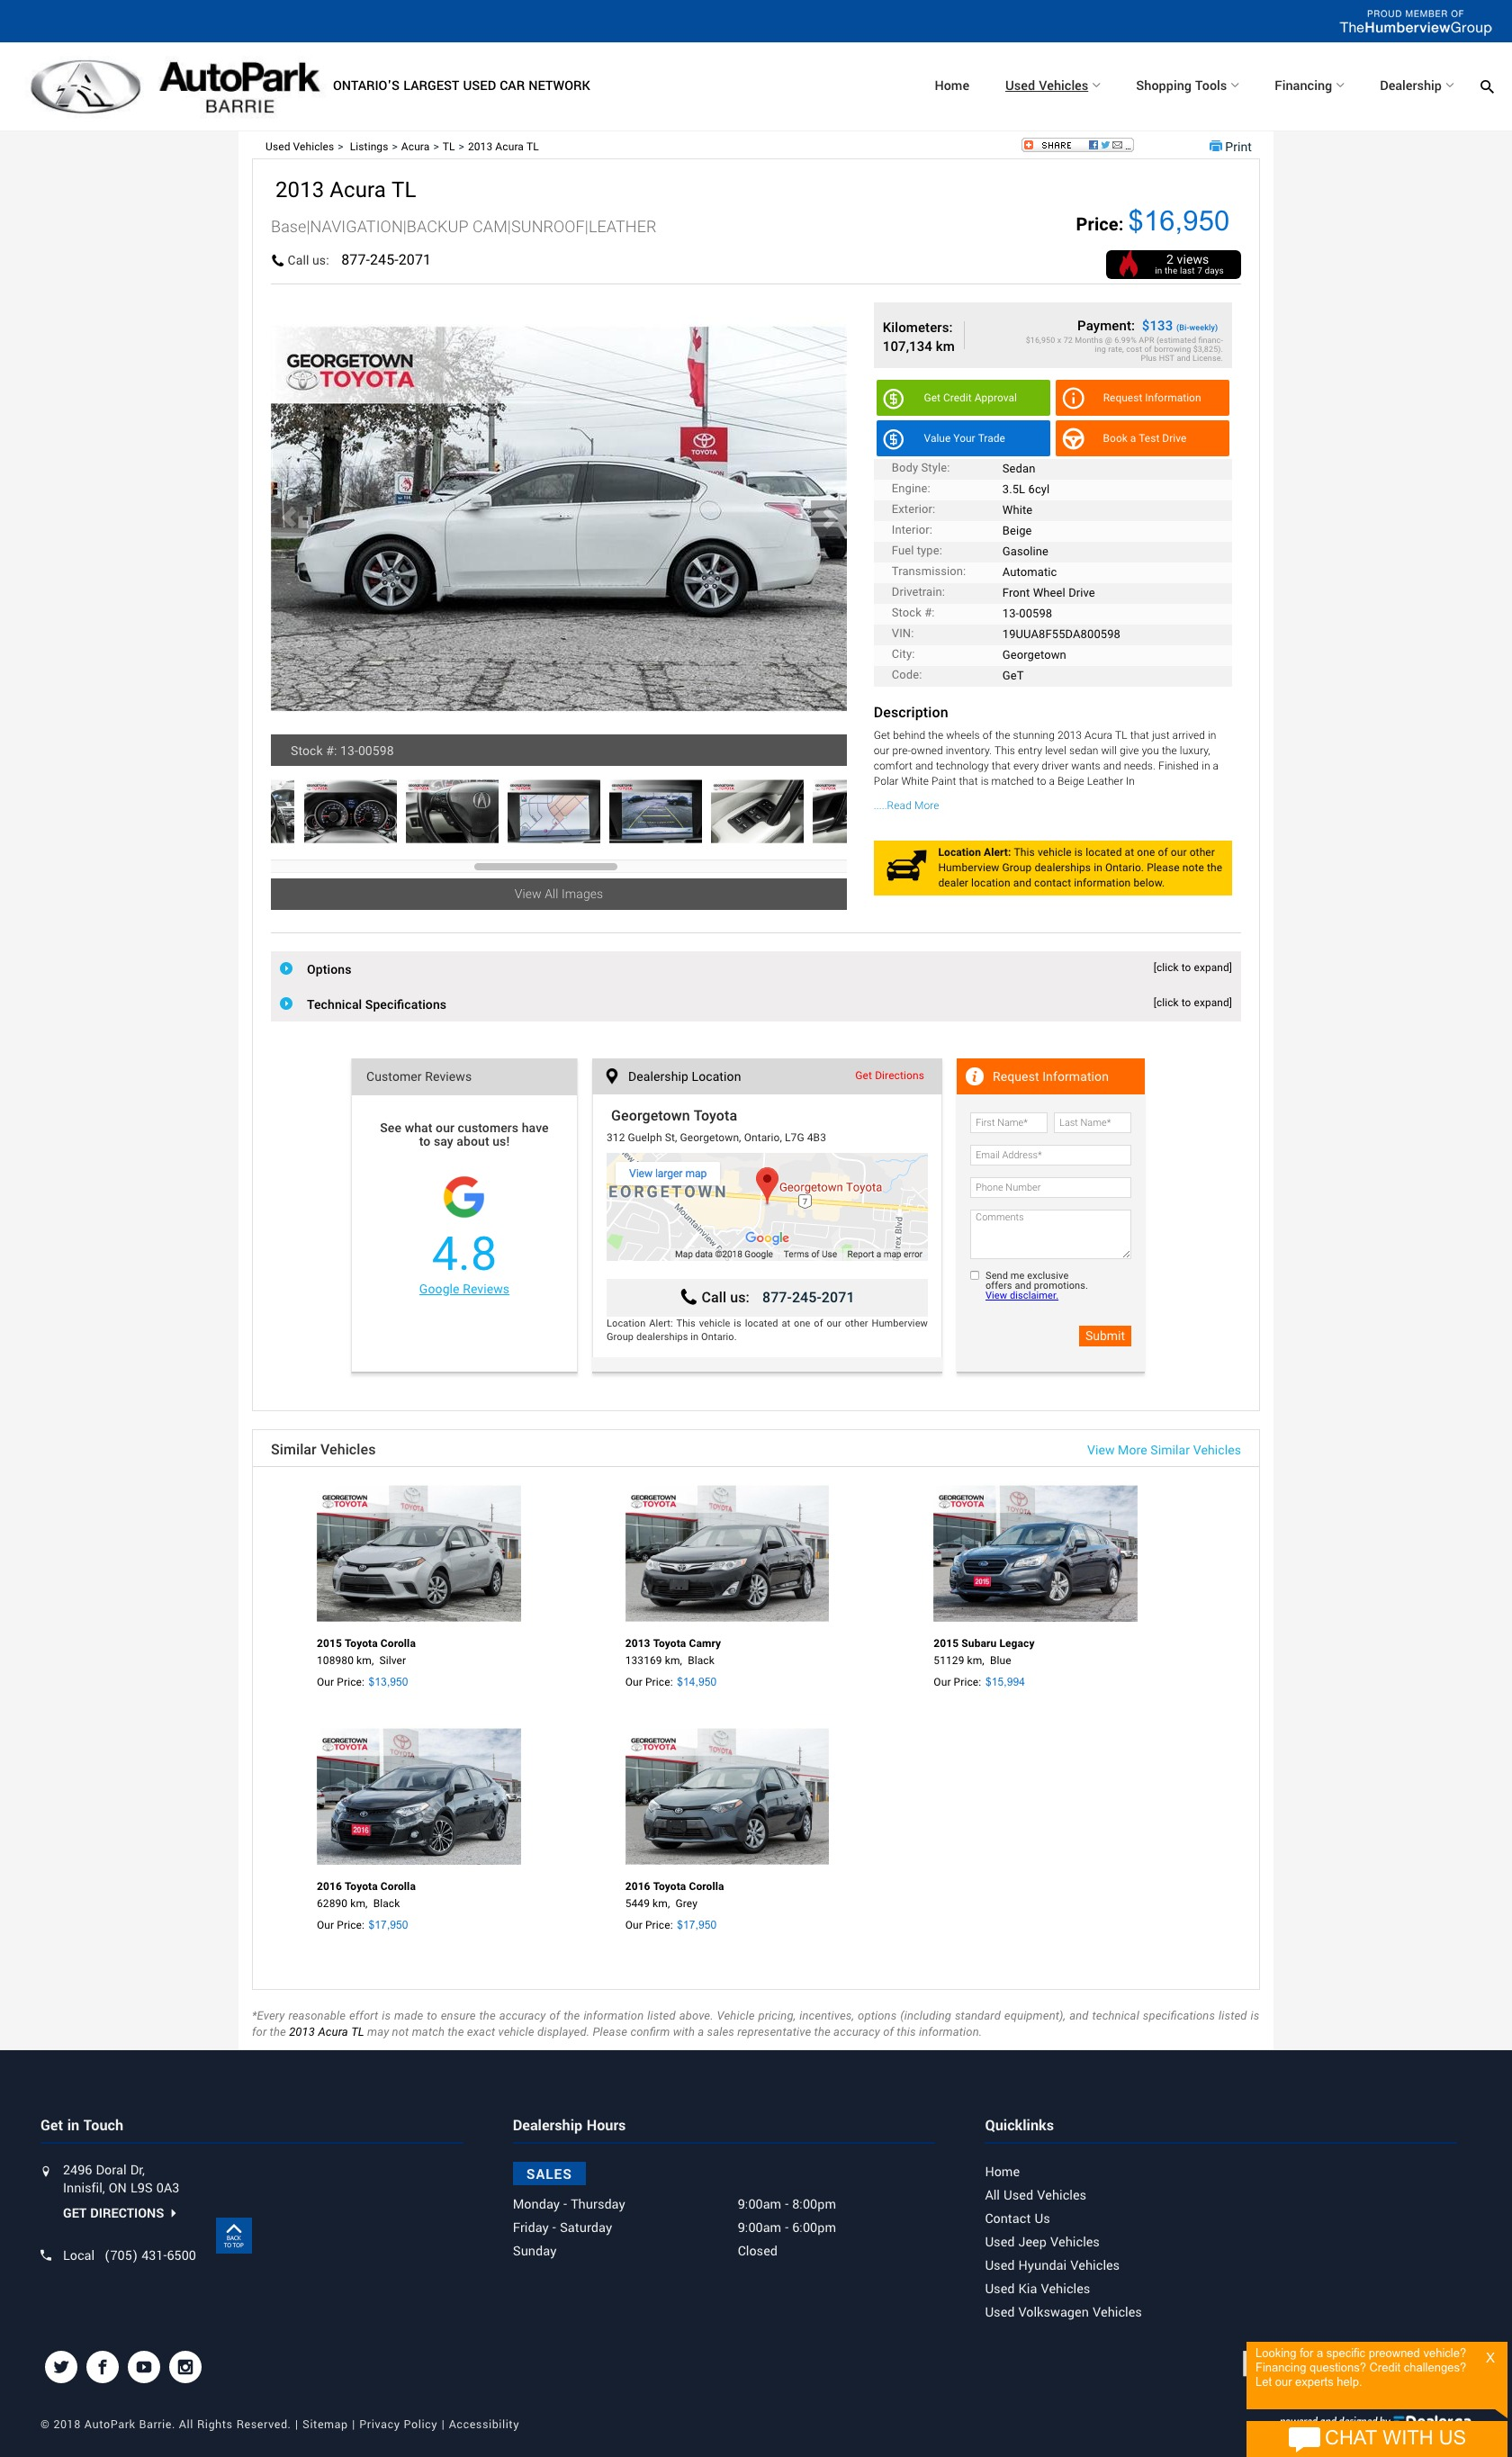car: (810, 500, 849, 539)
